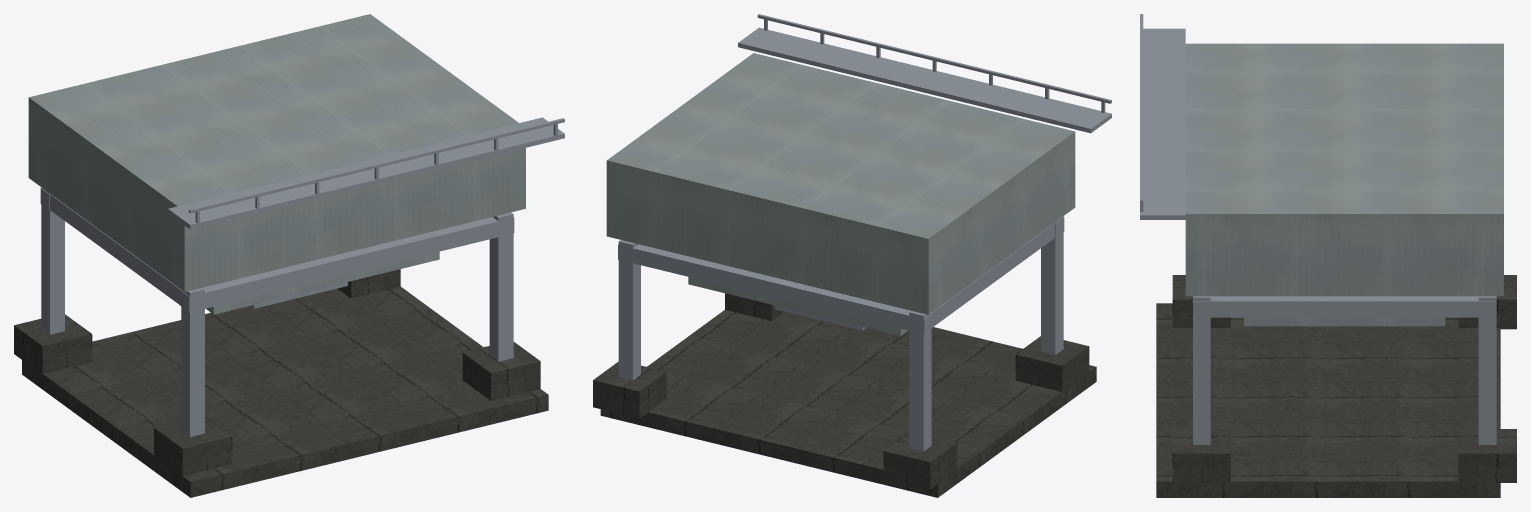
File: quarry_hopper.gltf
The picture shows the model from 3 angles, left to right: view 1: azimuth 30°, elevation 25°; view 2: azimuth 150°, elevation 25°; view 3: azimuth 270°, elevation 25°; orthographic projection. The views are drawn at different scales.
Visible parts, largest first — view 1: QuarryHopper; view 2: QuarryHopper; view 3: QuarryHopper.
Boxes of the visible parts, left/top/right/bottom form: QuarryHopper: left=14, top=14, right=564, bottom=497; QuarryHopper: left=593, top=14, right=1111, bottom=497; QuarryHopper: left=1140, top=14, right=1516, bottom=497.
Bounding box in the file's own units: 13.6 × 10.24 × 11.6.
3 materials, 2 textured.
